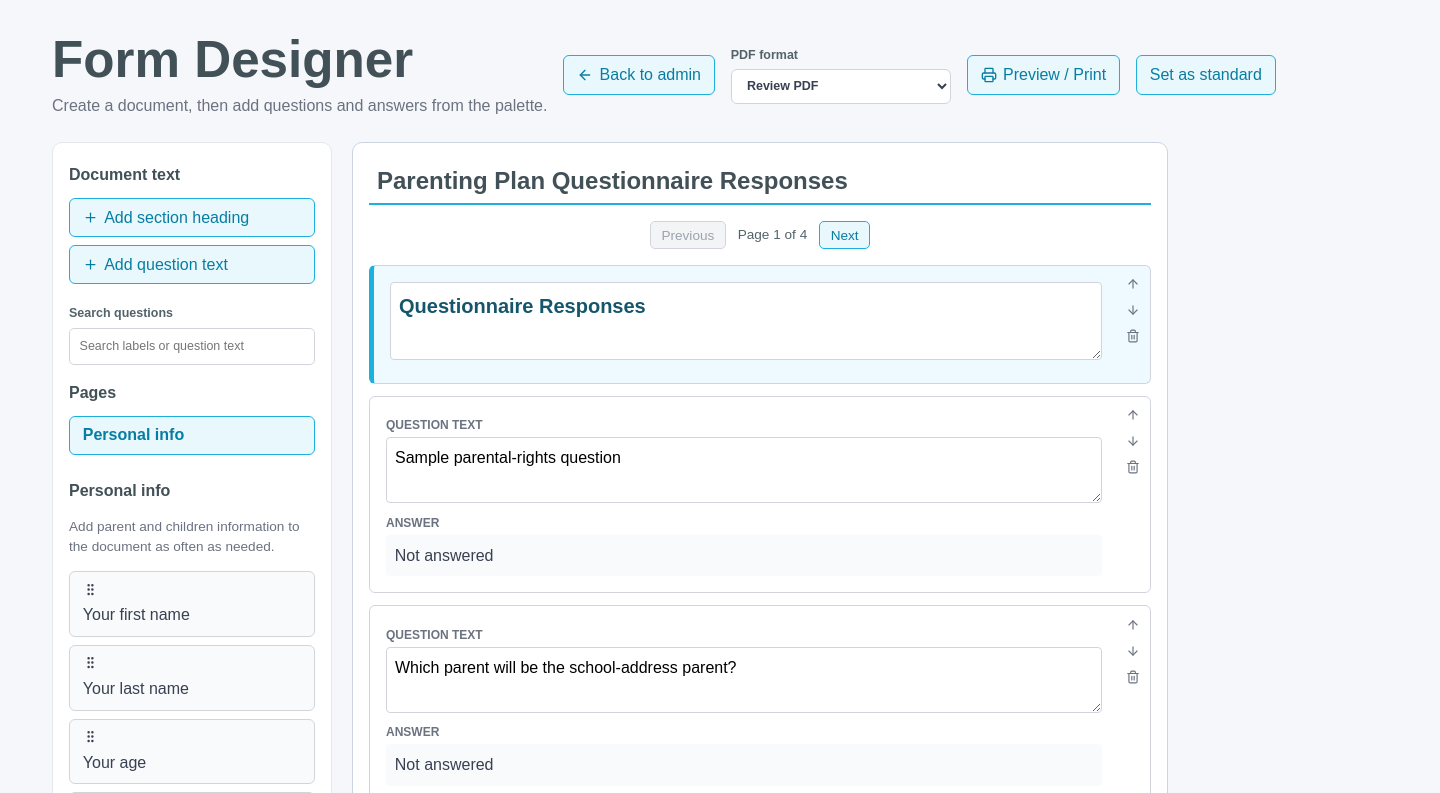
Test: FormDesigner › adds editable document text and switches PDF formats
Click the button "Add section heading" at (192, 218), box [69,198,315,237]
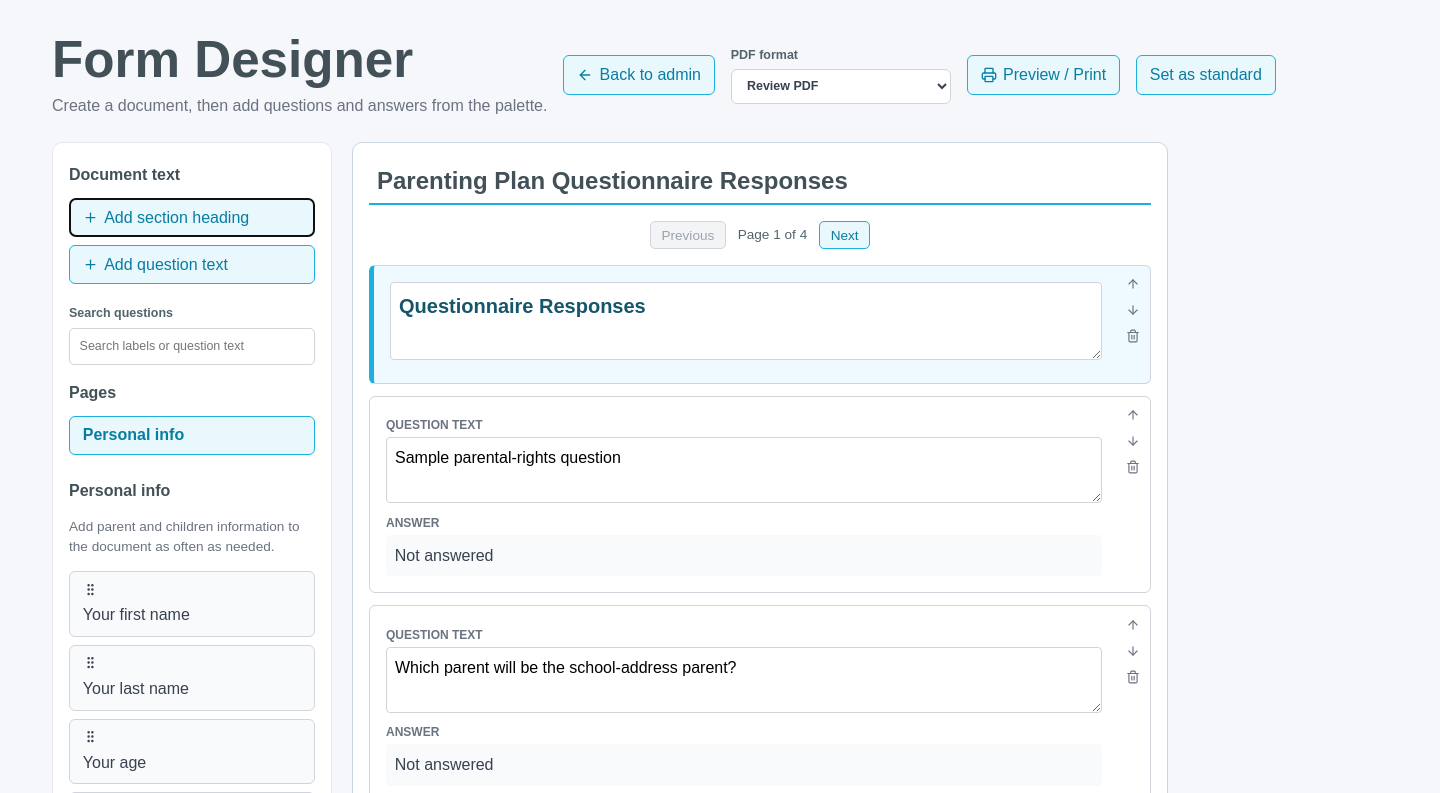
Select "Comparison PDF" in the dropdown labelled "PDF format" at (841, 86), box [731,68,951,104]
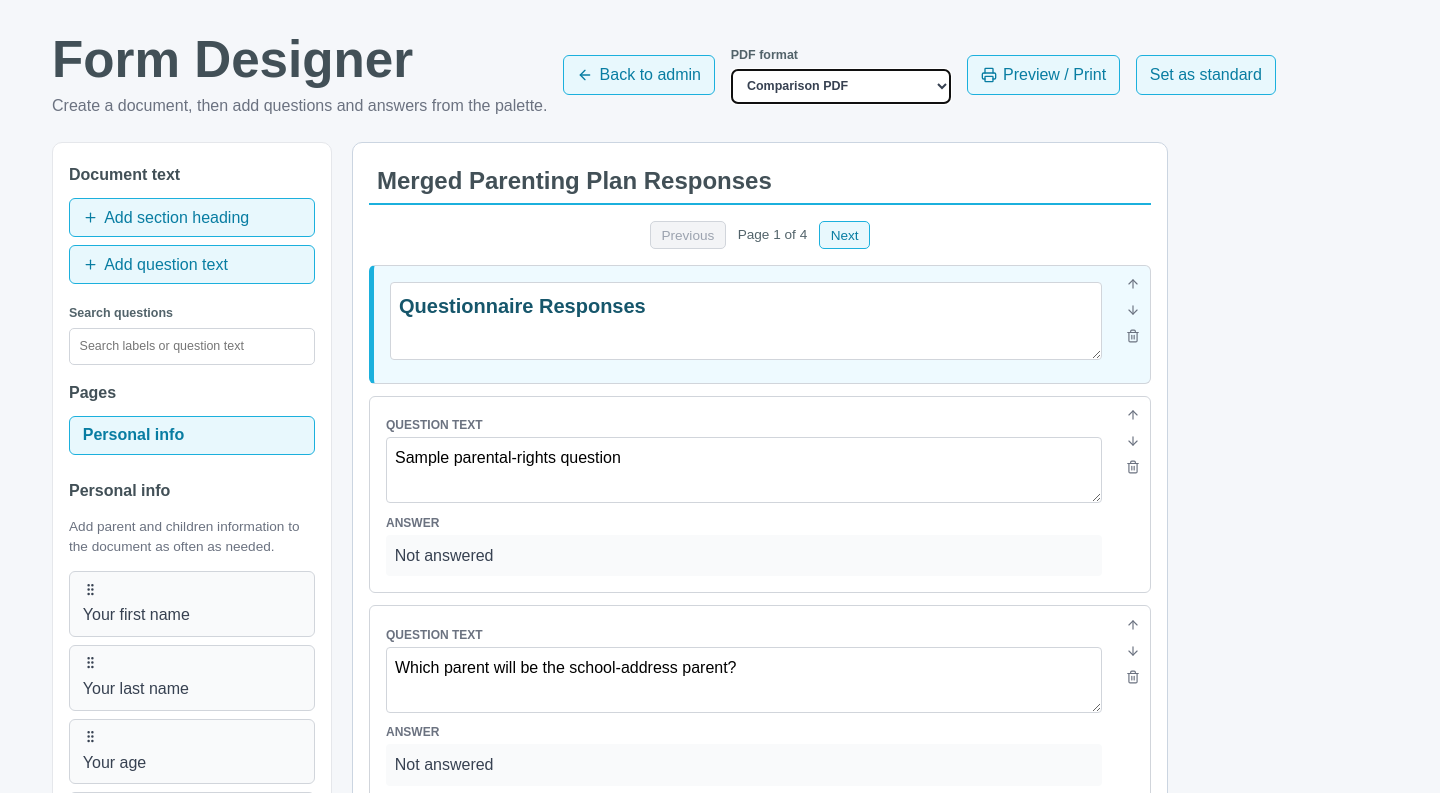
Expected: the field named "Document title" holds "Merged Parenting Plan Responses", [369,159,1151,205]
